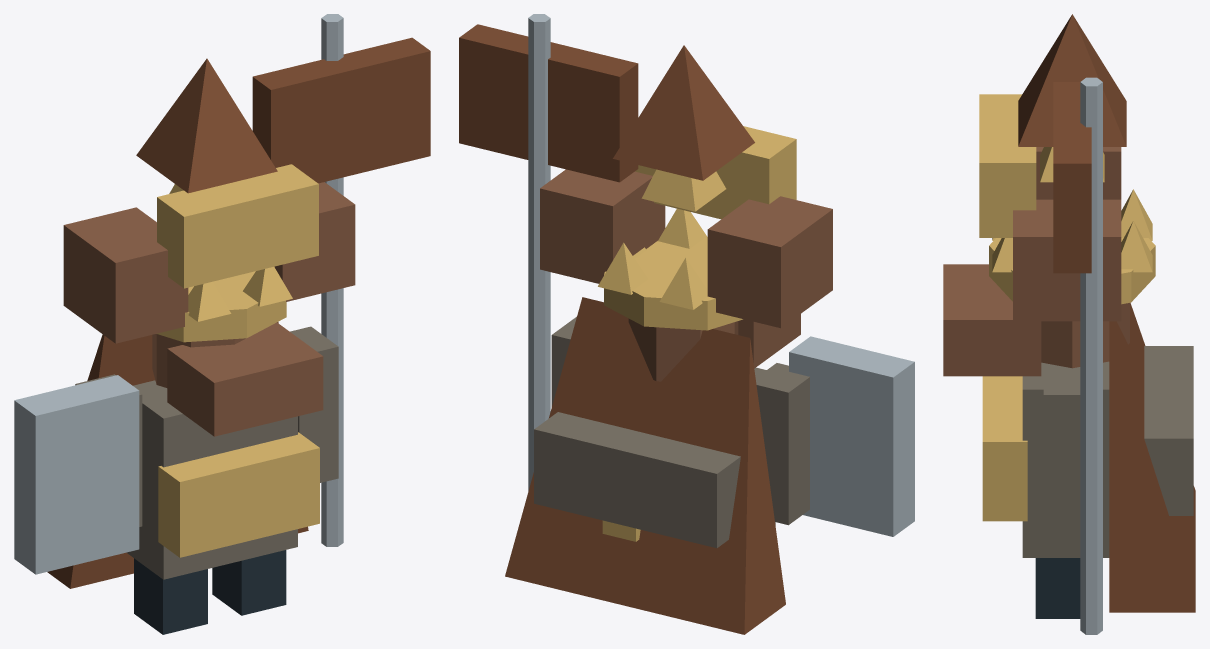
Rendered from hero.obj.
The picture shows the model from 3 angles, left to right: view 1: azimuth 30°, elevation 25°; view 2: azimuth 150°, elevation 25°; view 3: azimuth 270°, elevation 25°; orthographic projection. The views are drawn at different scales.
Parts seen in each view (by area): view 1: hero; view 2: hero; view 3: hero.
Boxes of the visible parts, x1,y1,x2,y2 form: hero: (14, 14, 430, 634); hero: (459, 14, 914, 634); hero: (943, 14, 1195, 634).
Size of the model in its own units: 1.94 by 2.45 by 0.9774.
